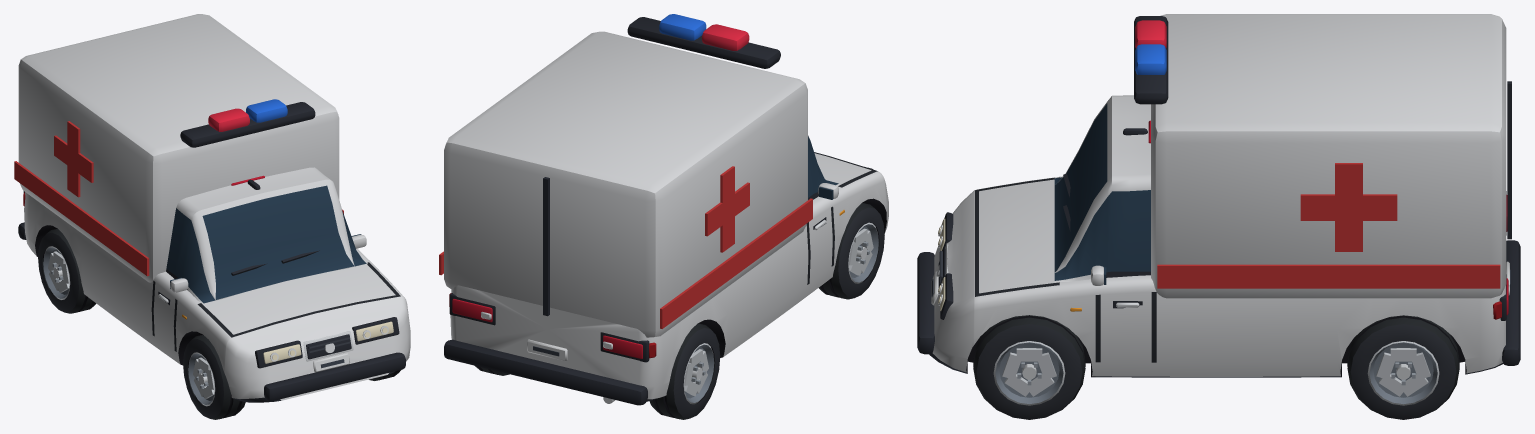
File: special-ambulance.glb
3 views of the same model, side by side, from view 1: azimuth 30°, elevation 25°; view 2: azimuth 150°, elevation 25°; view 3: azimuth 270°, elevation 25° (orthographic). The views are drawn at different scales.
Visible parts, largest first — view 1: ambulance_mesh, ambulance; view 2: ambulance_mesh, ambulance; view 3: ambulance_mesh, ambulance.
Boxes of the visible parts, box(x1,y1,x2,y2) form: ambulance_mesh: box(14, 14, 410, 402); ambulance: box(38, 228, 401, 419); ambulance_mesh: box(439, 14, 888, 405); ambulance: box(475, 202, 884, 419); ambulance_mesh: box(917, 14, 1520, 377); ambulance: box(973, 315, 1459, 419).
Size of the model in its own units: 1.88 by 2.3 by 3.87.
